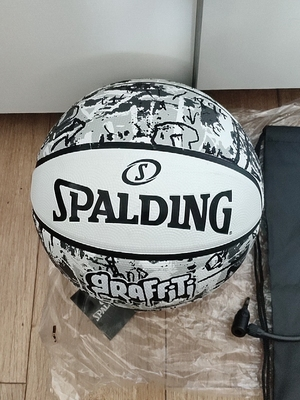ball: (31, 78, 265, 311)
